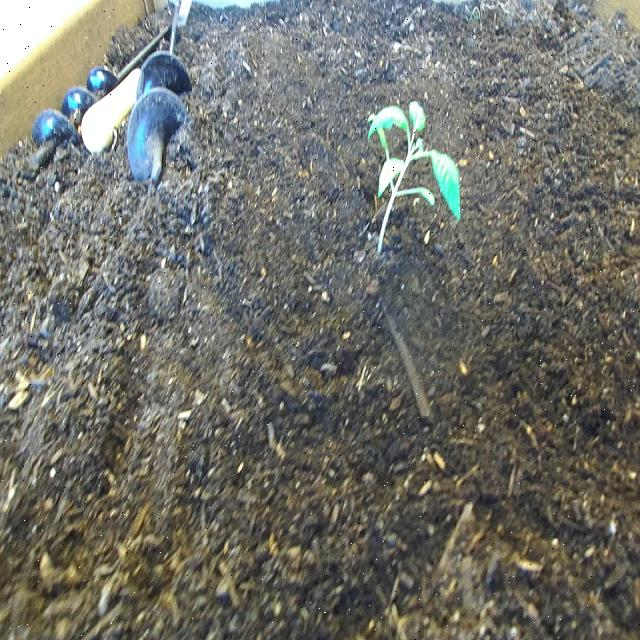Healthy: (362, 100, 465, 263)
